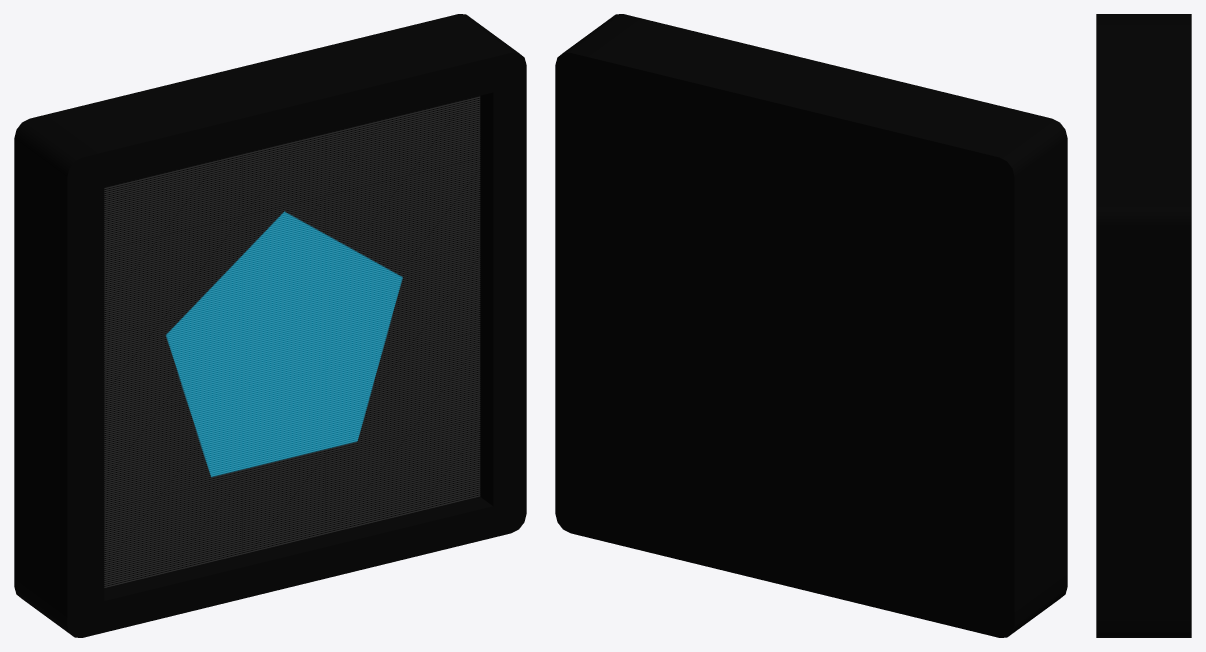
The model's file is ScreenLock.glb.
3 renders of one model, left to right at view 1: azimuth 30°, elevation 25°; view 2: azimuth 150°, elevation 25°; view 3: azimuth 270°, elevation 25°, orthographic. The views are drawn at different scales.
Visible parts, largest first — view 1: Screen, Screen_Box; view 2: Screen_Box; view 3: Screen_Box.
Part boxes in pixels (x1,y1,x2,y2): Screen: (104, 96, 480, 588); Screen_Box: (14, 14, 526, 637); Screen_Box: (555, 14, 1067, 637); Screen_Box: (1096, 14, 1191, 637).
Size of the model in its own units: 5 by 5 by 1.
2 materials, 1 textured.
